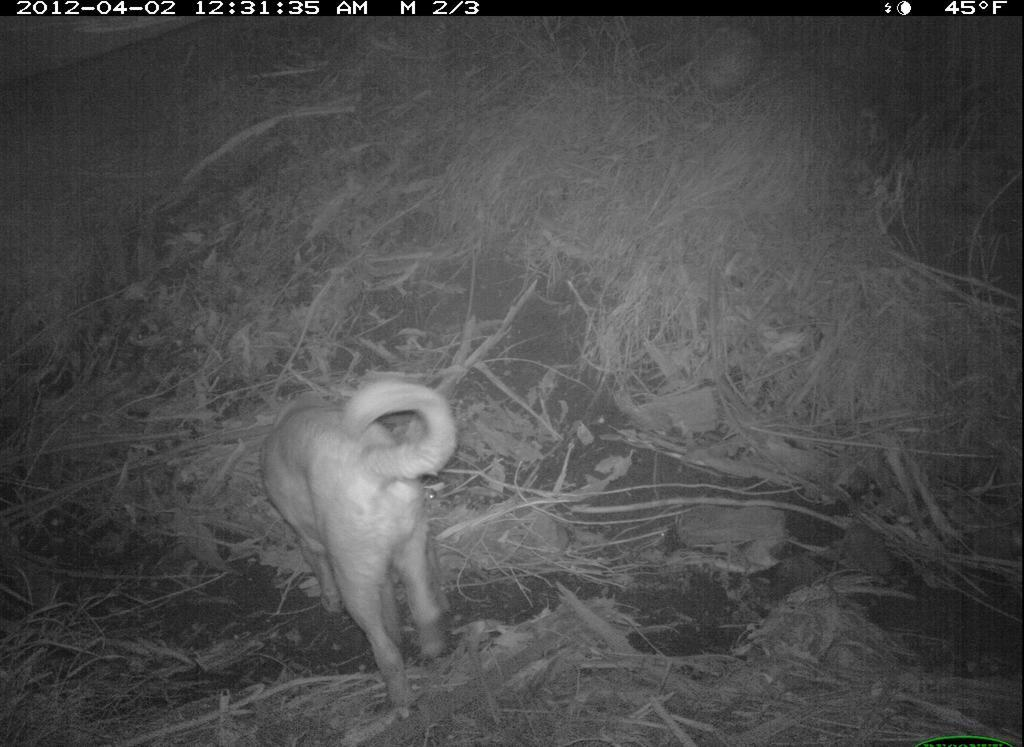dog: (230, 370, 491, 726)
